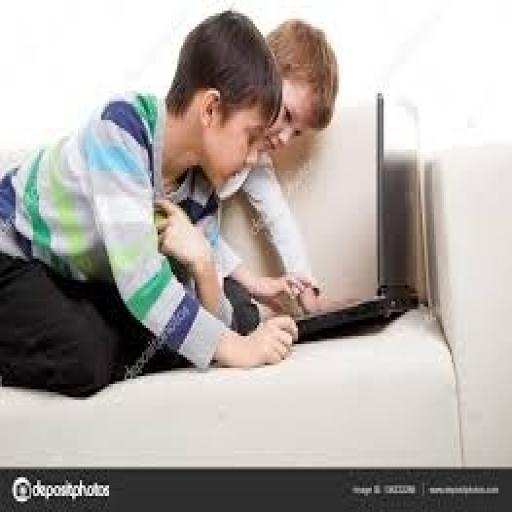using_laptop: (259, 88, 418, 344)
